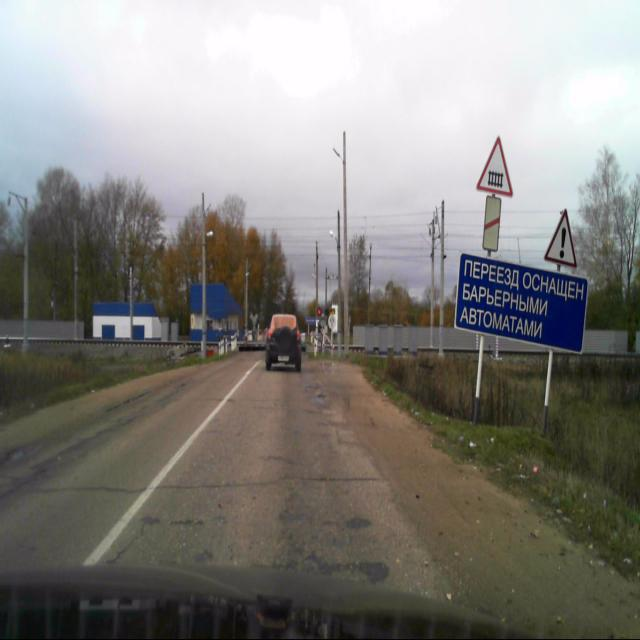object: (453, 253, 588, 356), (483, 195, 500, 252)
road sign: (476, 136, 513, 198), (544, 206, 578, 268)
